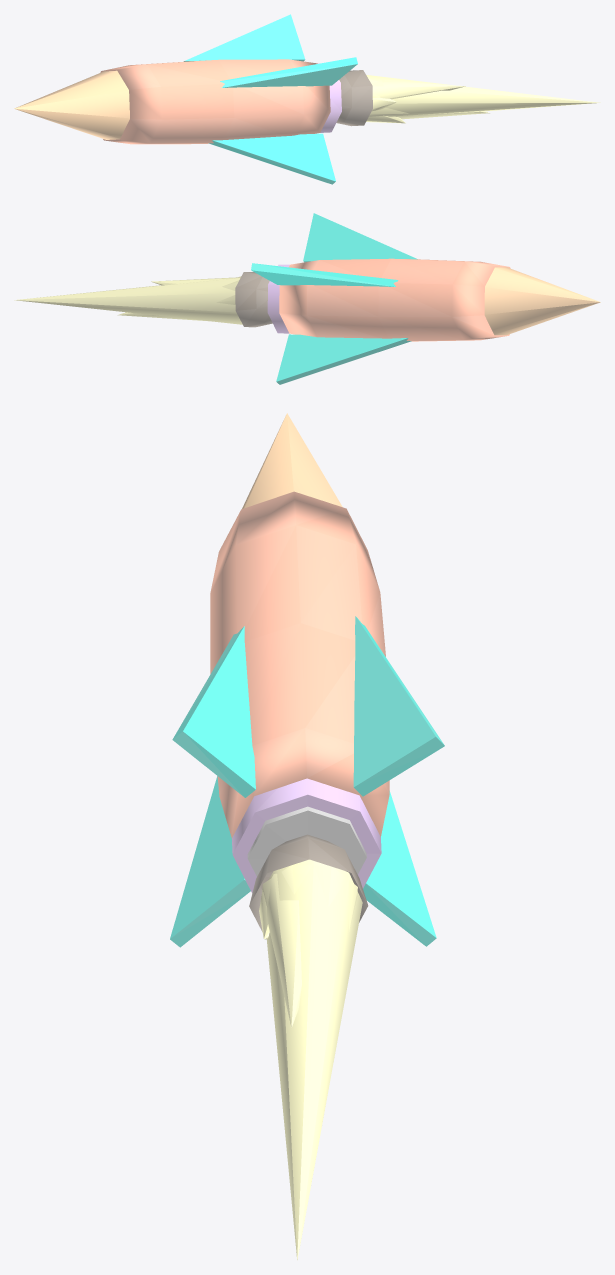
File: rocket4.glb
3 renders of one model, top to bottom at view 1: azimuth 30°, elevation 25°; view 2: azimuth 150°, elevation 25°; view 3: azimuth 270°, elevation 25°, orthographic. The views are drawn at different scales.
Size of the model in its own units: 2.26 by 0.5556 by 0.4616.
